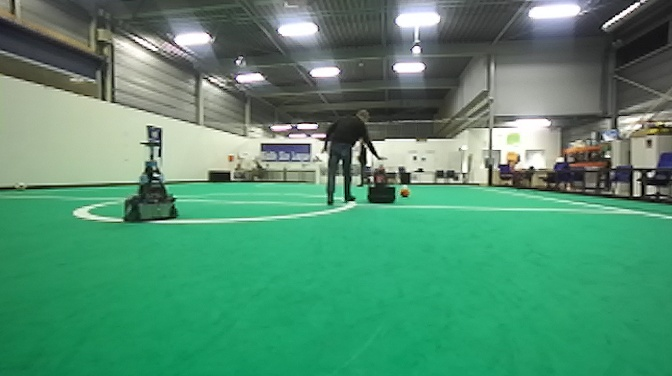ball: (395, 182, 413, 201), (11, 179, 30, 194)
goalpost: (315, 160, 320, 185)
human: (323, 106, 388, 209)
robot: (118, 137, 183, 227), (364, 157, 399, 206)
